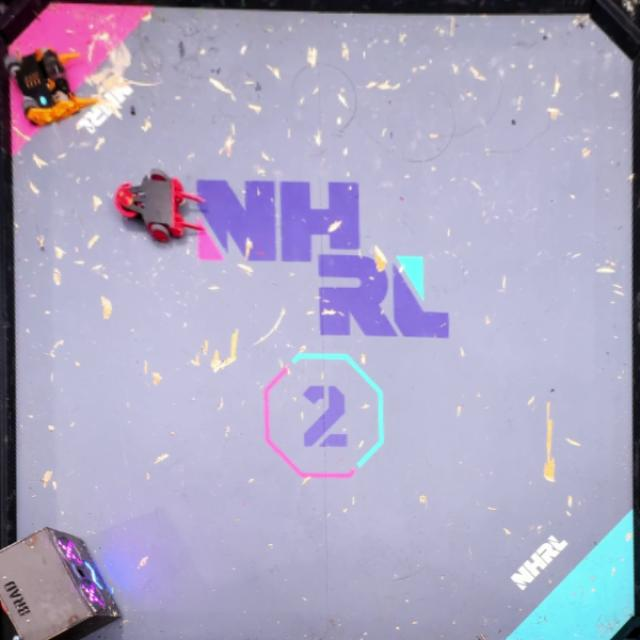housebot: (0, 525, 126, 640)
robot: (6, 48, 100, 124), (112, 170, 206, 243)
